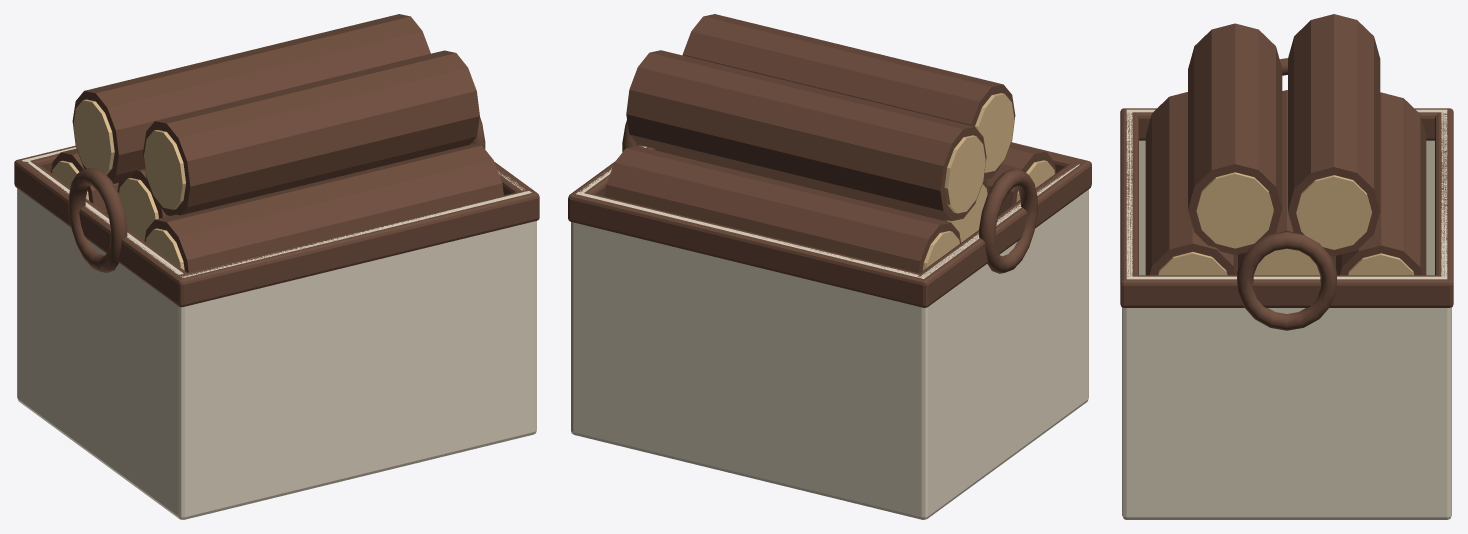
The model's file is hh_cat_log_basket.glb.
3 views of the same model, side by side, from view 1: azimuth 30°, elevation 25°; view 2: azimuth 150°, elevation 25°; view 3: azimuth 270°, elevation 25° (orthographic).
Visible parts, largest first — view 1: body.001, body.002, log.003, log, log.004, rim, rim.001, handle, log_end.006, log_end.008, body, body.004 (+4 smaller); view 2: body.003, body.002, log.004, log.002, log.003, rim.002, rim.001, handle, log_end.008, body, log_end.006, body.004 (+5 smaller); view 3: body.004, log.004, log.003, rim.003, log.002, log, log_end.007, handle.001, log_end.009, rim.002, rim, body.002 (+7 smaller).
Part boxes in pixels (left/top/right/bottom): body.001: left=178, top=191, right=536, bottom=519; body.002: left=17, top=159, right=189, bottom=519; log.003: left=143, top=50, right=479, bottom=215; log: left=144, top=143, right=503, bottom=272; log.004: left=72, top=14, right=430, bottom=183; rim: left=173, top=189, right=537, bottom=307; rim.001: left=14, top=157, right=193, bottom=306; handle: left=68, top=167, right=127, bottom=272; log_end.006: left=144, top=130, right=185, bottom=209; log_end.008: left=73, top=99, right=114, bottom=174; body: left=186, top=425, right=528, bottom=515; body.004: left=497, top=170, right=536, bottom=435; body.003: left=573, top=192, right=930, bottom=518; body.002: left=916, top=164, right=1088, bottom=519; log.004: left=626, top=50, right=986, bottom=220; log.002: left=604, top=146, right=960, bottom=273; log.003: left=682, top=14, right=1015, bottom=179; rim.002: left=568, top=192, right=929, bottom=306; rim.001: left=913, top=158, right=1091, bottom=307; handle: left=979, top=168, right=1037, bottom=273; log_end.008: left=944, top=135, right=985, bottom=213; body: left=574, top=424, right=920, bottom=514; log_end.006: left=975, top=93, right=1014, bottom=172; body.004: left=571, top=146, right=646, bottom=435; body.004: left=1122, top=276, right=1451, bottom=519; log.004: left=1288, top=14, right=1380, bottom=256; log.003: left=1188, top=23, right=1282, bottom=254; rim.003: left=1120, top=275, right=1453, bottom=307; log.002: left=1336, top=92, right=1426, bottom=275; log: left=1145, top=92, right=1237, bottom=275; log_end.007: left=1196, top=172, right=1273, bottom=248; handle.001: left=1237, top=232, right=1336, bottom=330; log_end.009: left=1296, top=175, right=1371, bottom=249; rim.002: left=1435, top=108, right=1453, bottom=307; rim: left=1120, top=108, right=1138, bottom=307; body.002: left=1126, top=109, right=1447, bottom=275.
Bounding box in the file's own units: 0.45 × 0.4 × 0.35.
